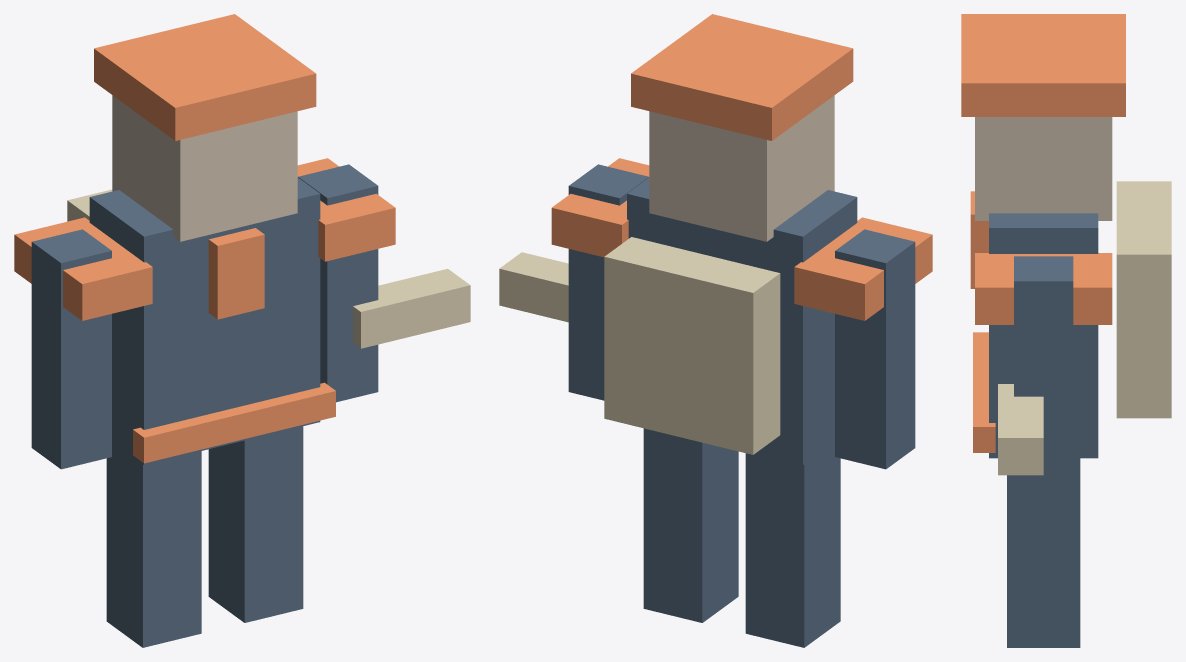
Rendered from 03_luma_tideforged_oracle_at_counterweight.glb.
3 views of the same model, side by side, from view 1: azimuth 30°, elevation 25°; view 2: azimuth 150°, elevation 25°; view 3: azimuth 270°, elevation 25° (orthographic).
Parts seen in each view (by area): view 1: Luma Tideforged, Oracle at Counterweight; view 2: Luma Tideforged, Oracle at Counterweight; view 3: Luma Tideforged, Oracle at Counterweight.
Boxes of the visible parts, box(x1,y1,x2,y2) form: Luma Tideforged, Oracle at Counterweight: box(14, 14, 470, 647); Luma Tideforged, Oracle at Counterweight: box(499, 14, 932, 647); Luma Tideforged, Oracle at Counterweight: box(961, 14, 1171, 647).
Size of the model in its own units: 1.09 by 1.44 by 0.4884.
